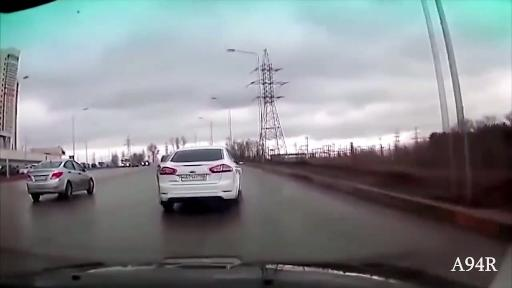CAR: (16, 84, 272, 230)
